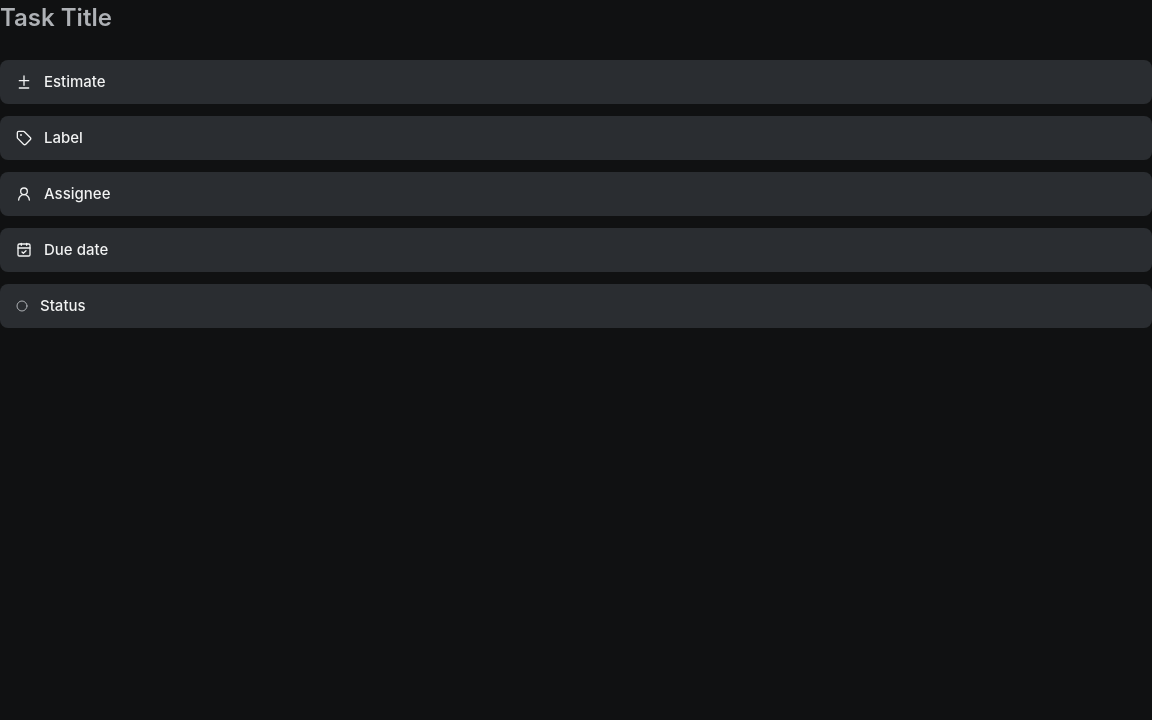
Test: TaskForm › dismisses a centred popover when its backdrop is clicked
The image size is (1152, 720).
Step 1. Click the button "Status" → (63, 305), box [0, 284, 1151, 328]
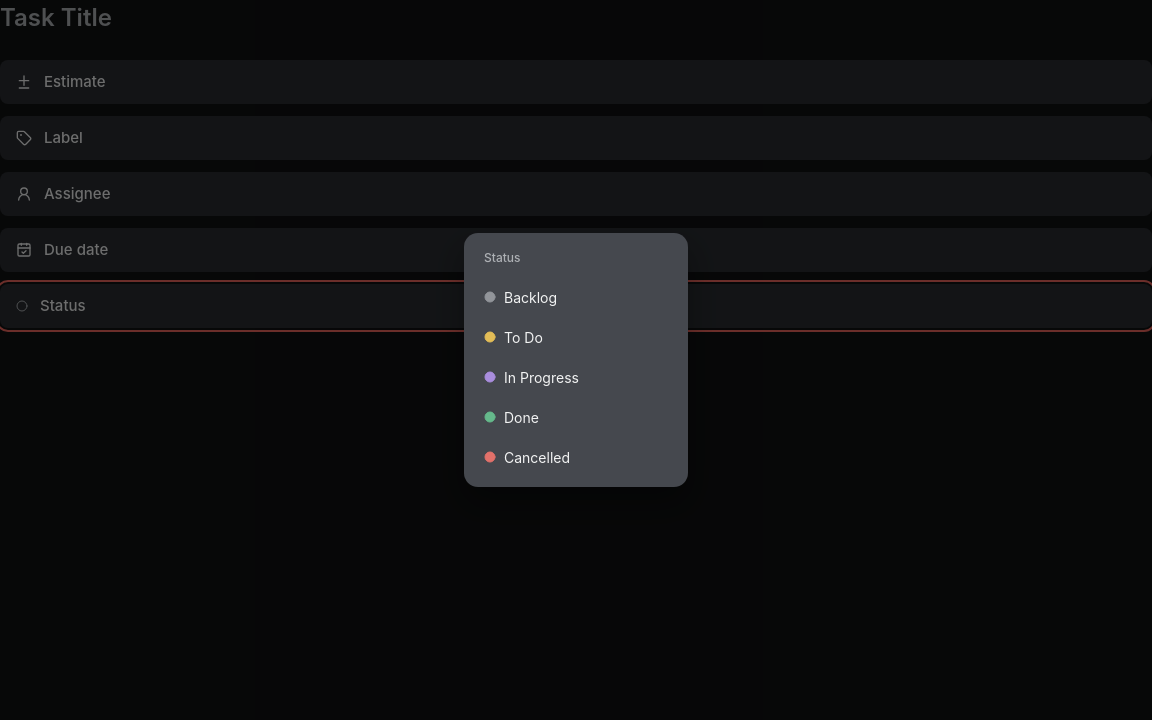
Now the element "Status" is shown, box [464, 233, 688, 487]
Step 2. Click the 1st button → (69, 360), box [0, 0, 1151, 719]
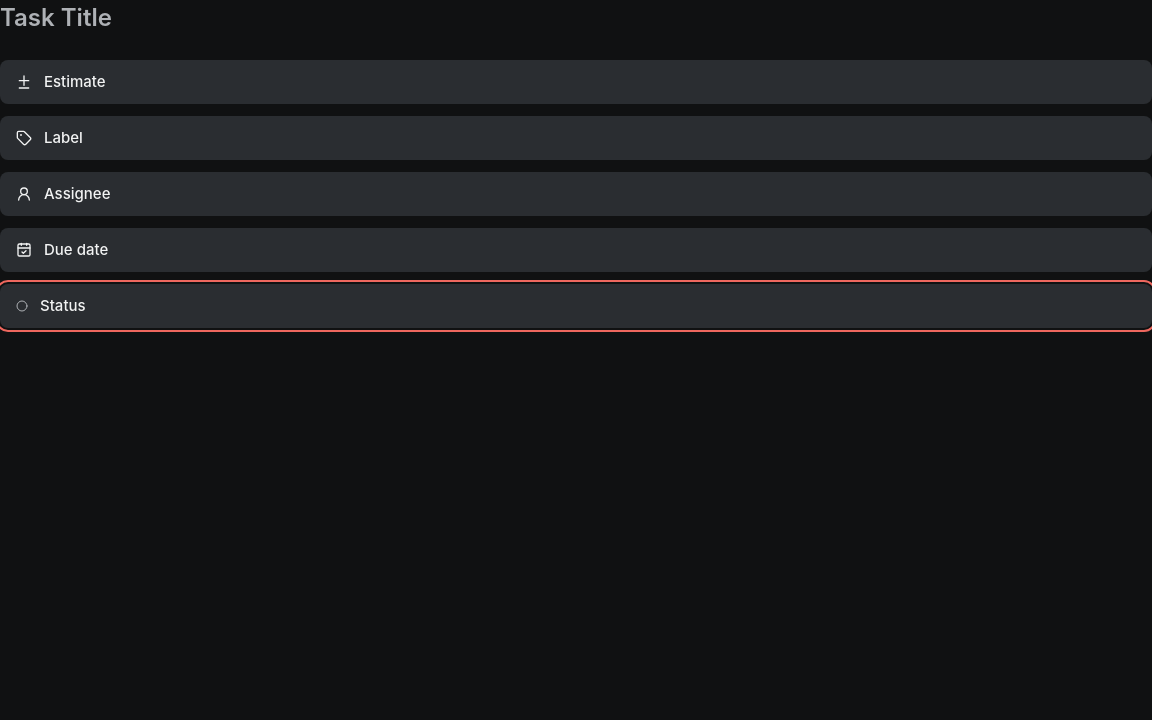
Now the text "Status Backlog To Do In Progress Done Cancelled" is gone
